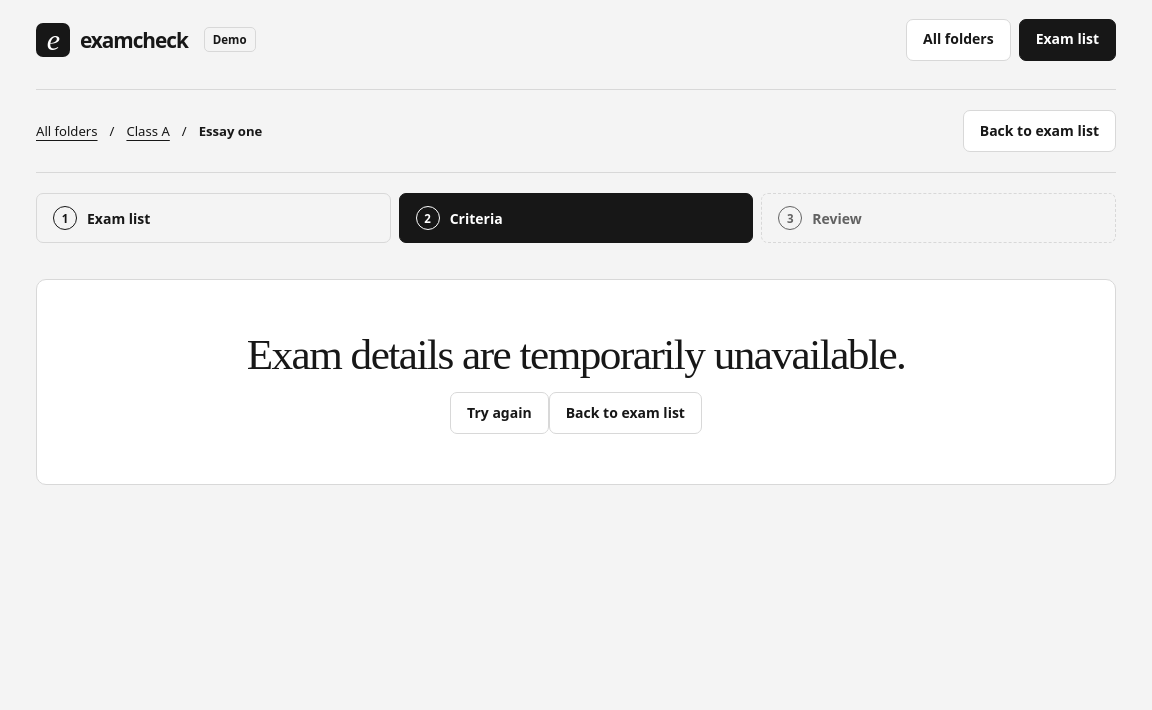
React workspace workflows › allows a failed exam detail request to be retried in place
The image size is (1152, 710).
Click the button "Try again": (499, 413) 450,392 -> 549,434
(page scrolled)
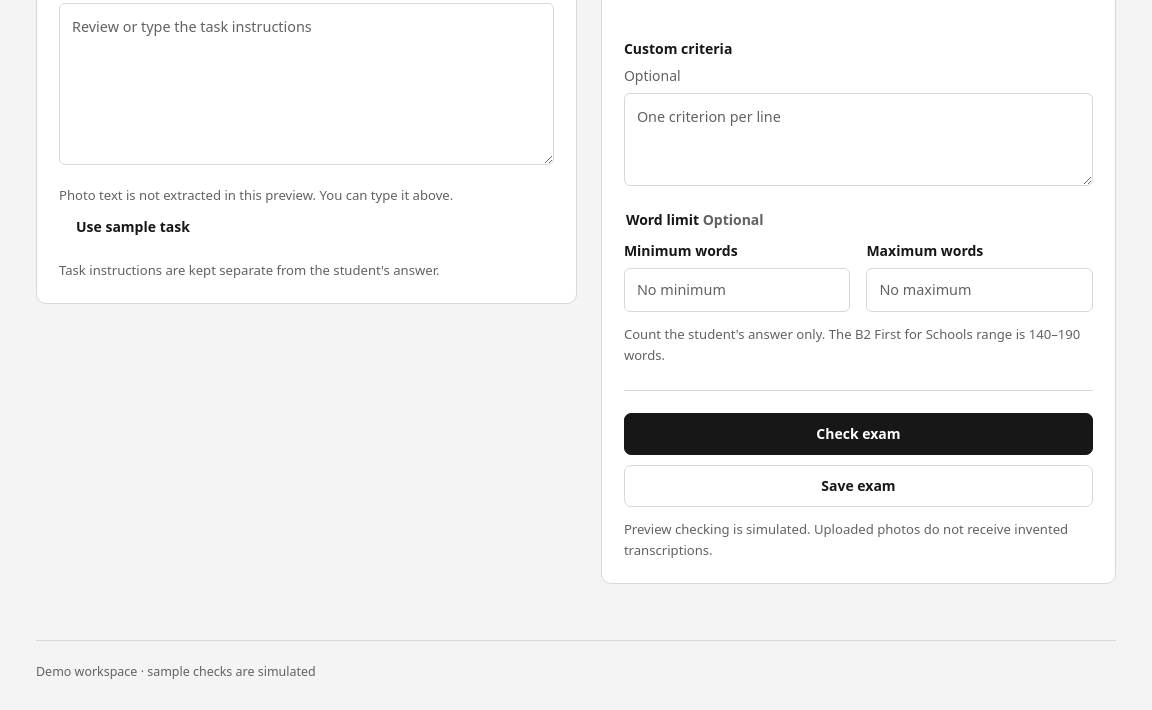
Expected: the button "Check exam" is enabled, 624,413 -> 1093,455
